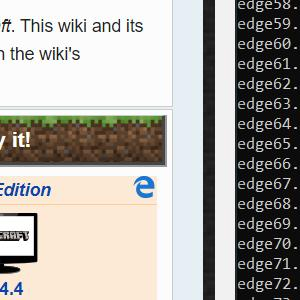edge: (133, 176, 155, 199)
